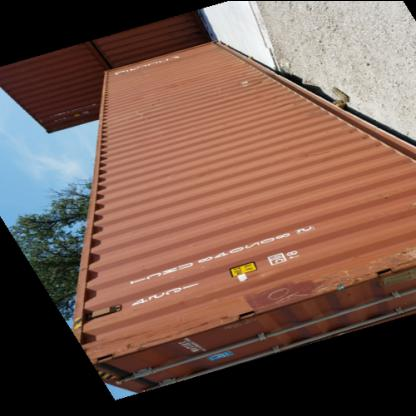Damage: (338, 238, 412, 297), (246, 270, 321, 313), (121, 102, 159, 130), (227, 76, 265, 90)
